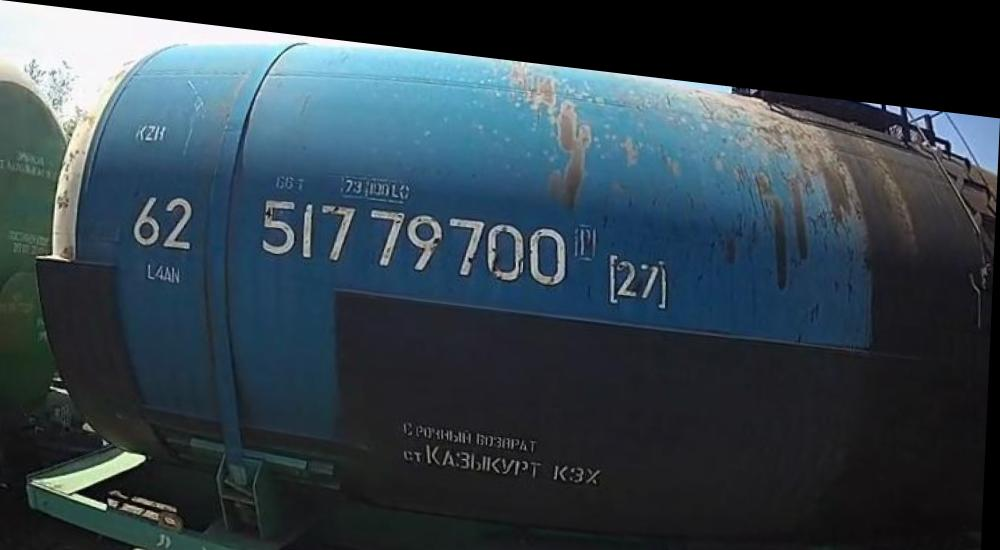Wagon-number: (256, 183, 574, 284)
